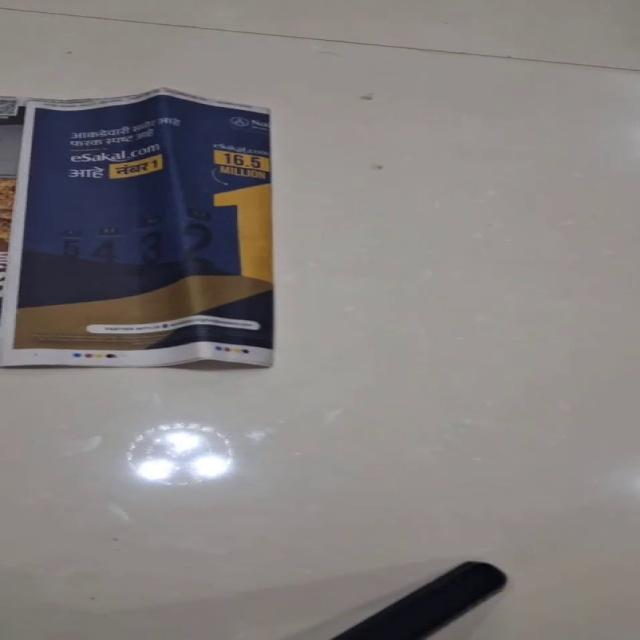paper: (0, 86, 274, 369)
